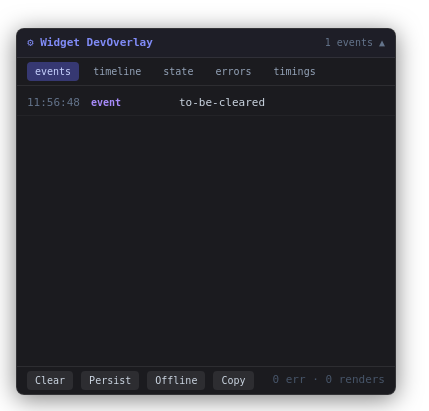
Scenario: DevOverlay › clears events when Clear button is clicked
Check: the text "to-be-cleared" is shown, box x1=179 y1=95 x2=265 y2=112
Click the button "Clear": (50, 380) x1=27 y1=371 x2=73 y2=390
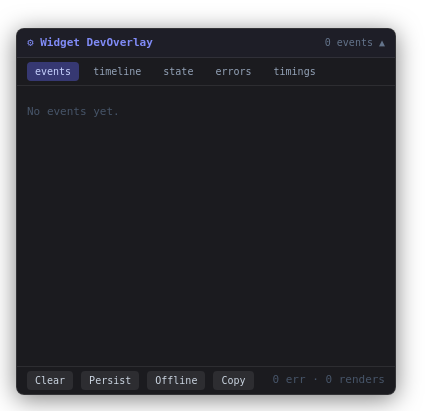
Check: the text "to-be-cleared" is gone
